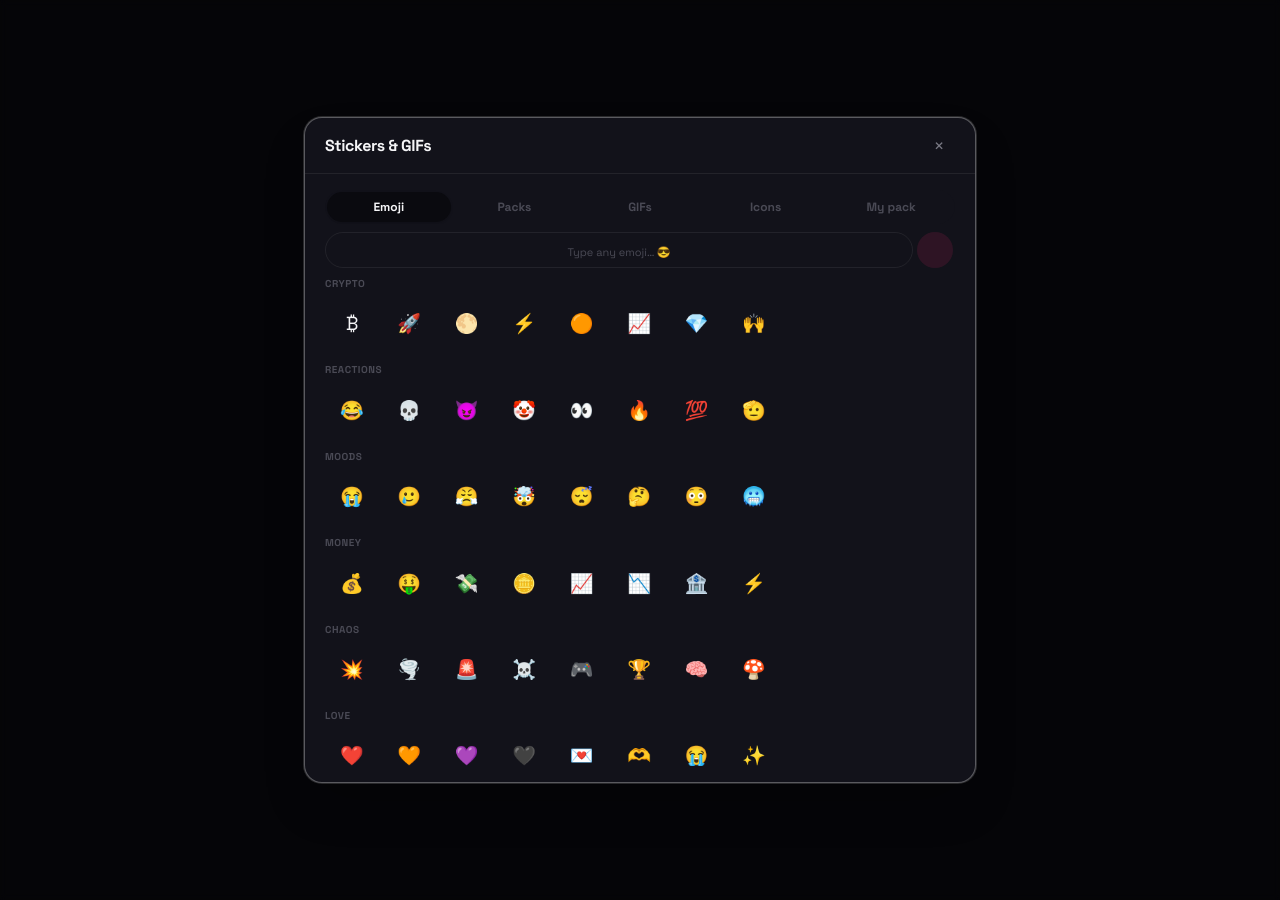
Scenario: MemeMediaHubDialog (browser) › guards the builder empty state — export disabled, guided start
The image size is (1280, 900).
Click the button "My pack".
click(891, 207)  # box [829,192,953,222]
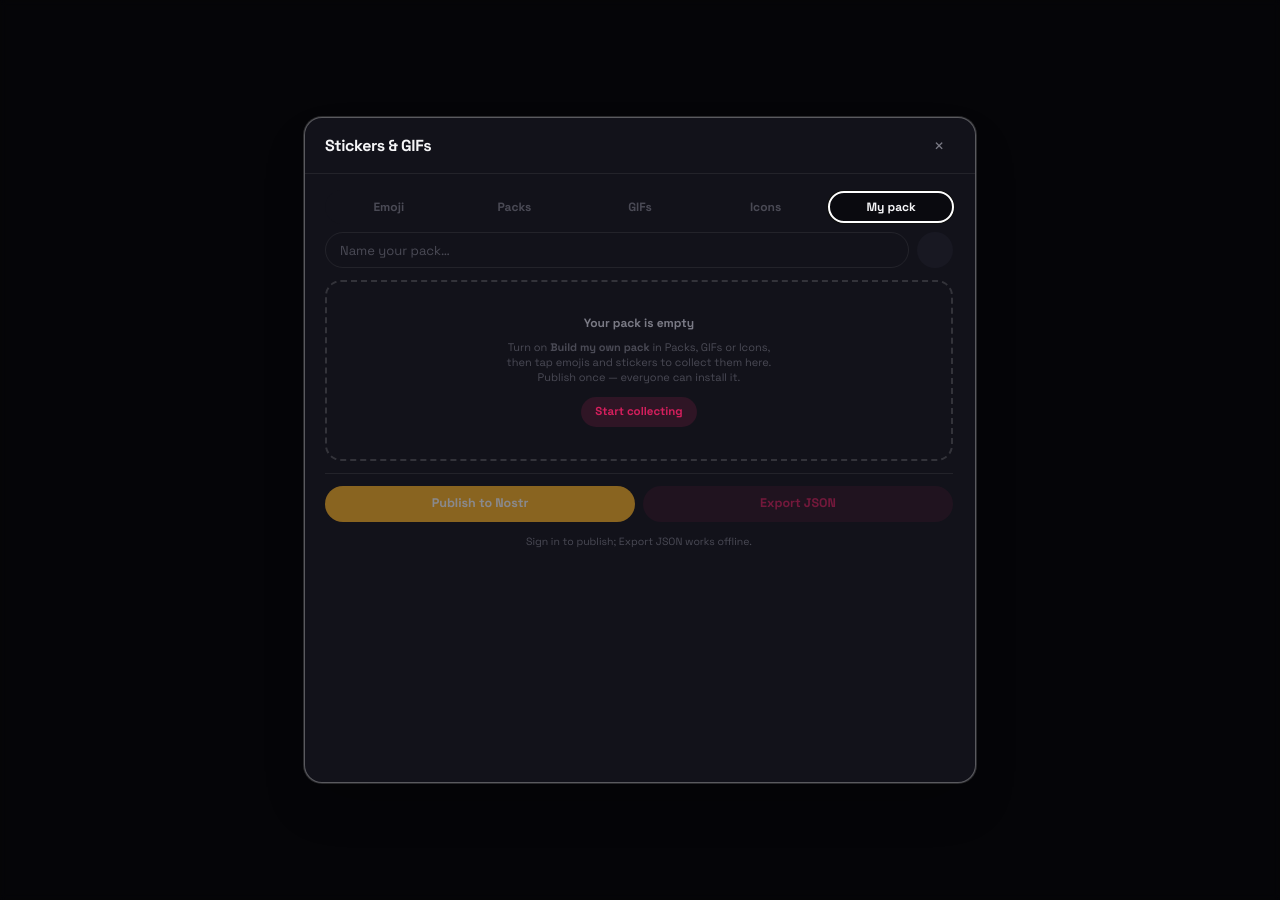
Expected: the button "Publish to Nostr" is disabled, [325,486,635,522]
Expected: the button "Export JSON" is disabled, [643,486,953,522]
Expected: the button "Start collecting" is shown, [581,397,697,427]
